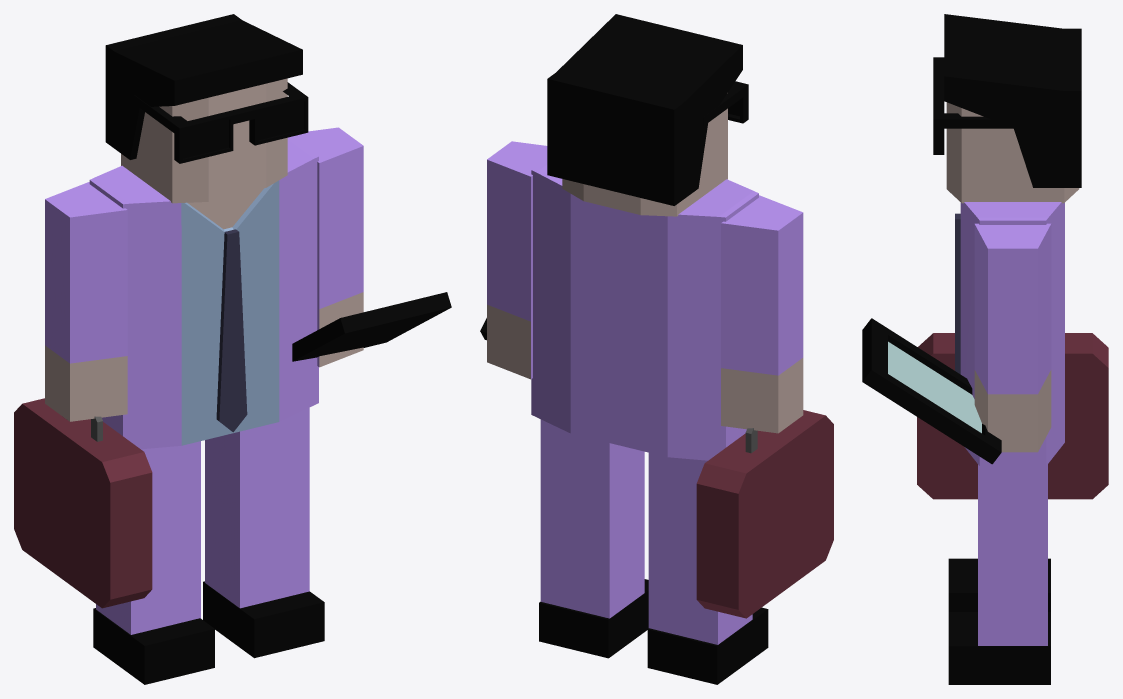
The model's file is stock_guy.fbx.
3 views of the same model, side by side, from view 1: azimuth 30°, elevation 25°; view 2: azimuth 150°, elevation 25°; view 3: azimuth 270°, elevation 25° (orthographic).
Parts seen in each view (by area): view 1: pCube42; view 2: pCube42; view 3: pCube42.
Boxes of the visible parts, left/top/right/bottom form: pCube42: left=14, top=14, right=451, bottom=684; pCube42: left=480, top=14, right=833, bottom=684; pCube42: left=862, top=14, right=1108, bottom=684.
Bounding box in the file's own units: 98.71 × 177 × 66.27.
